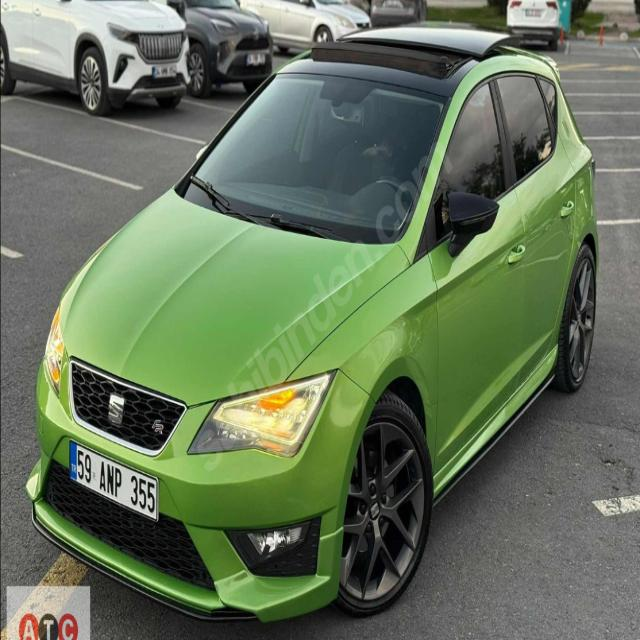seat: (106, 389, 127, 430)
